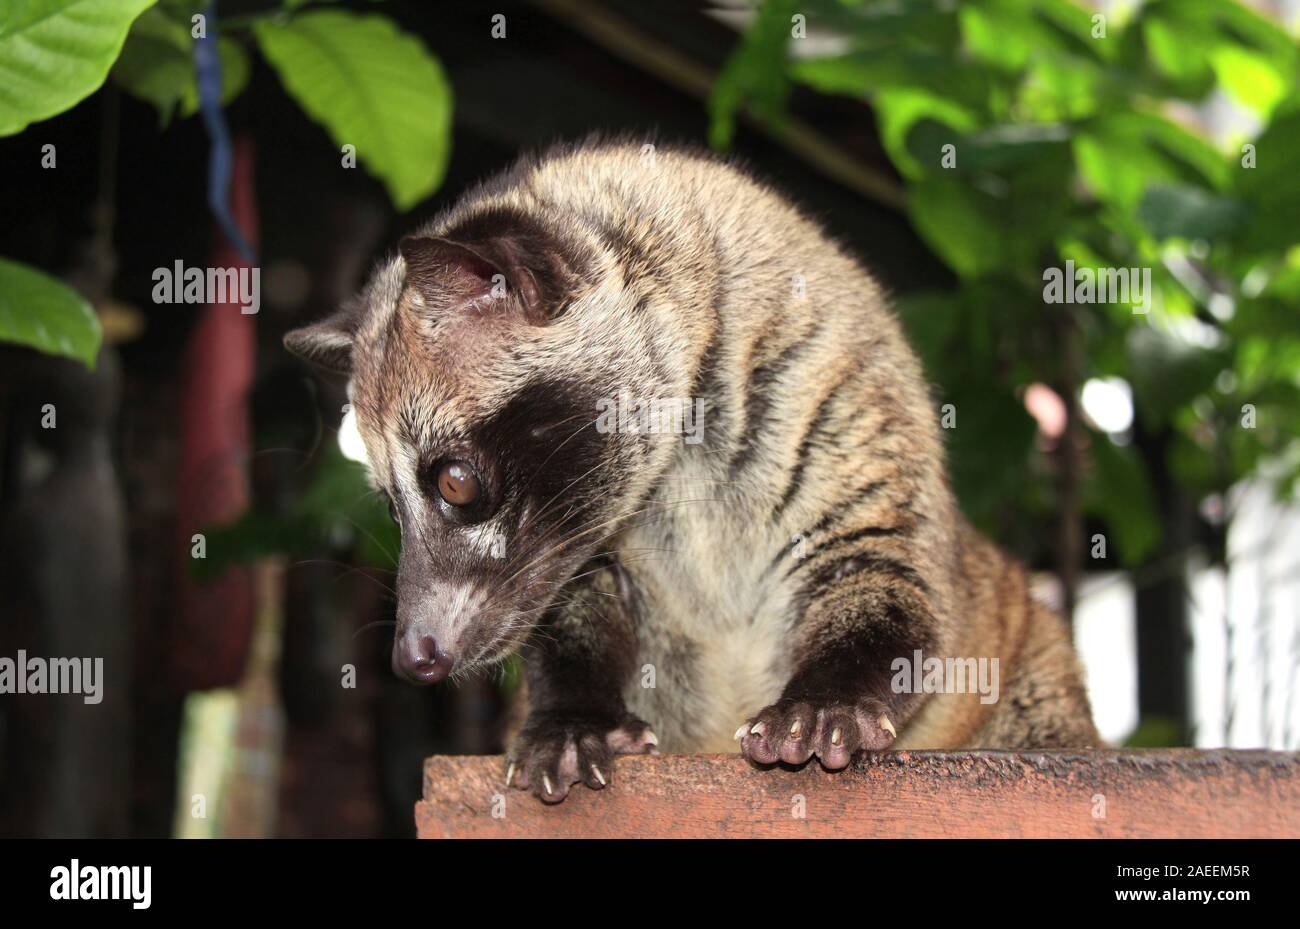Civet: (337, 126, 1128, 792)
